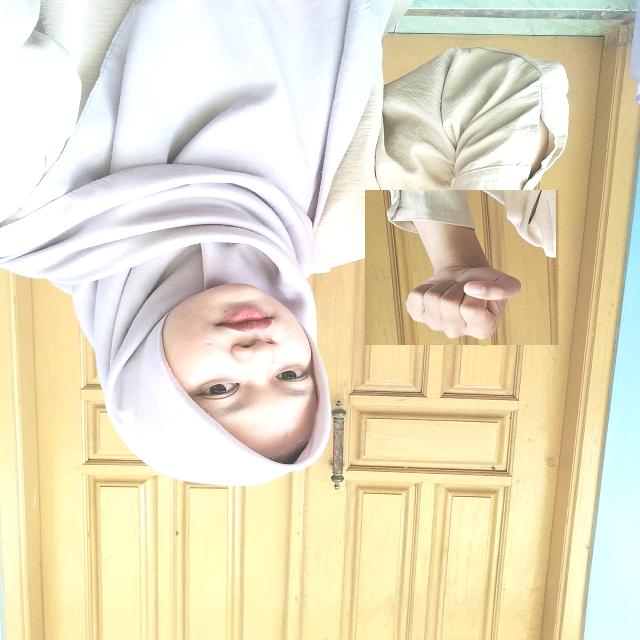baik: (366, 190, 560, 345)
